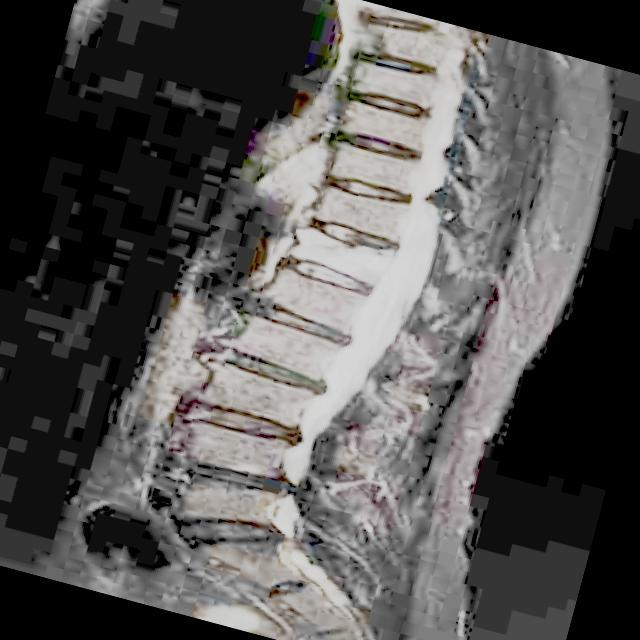Compression-Crush Fracutre: (290, 211, 390, 302)
